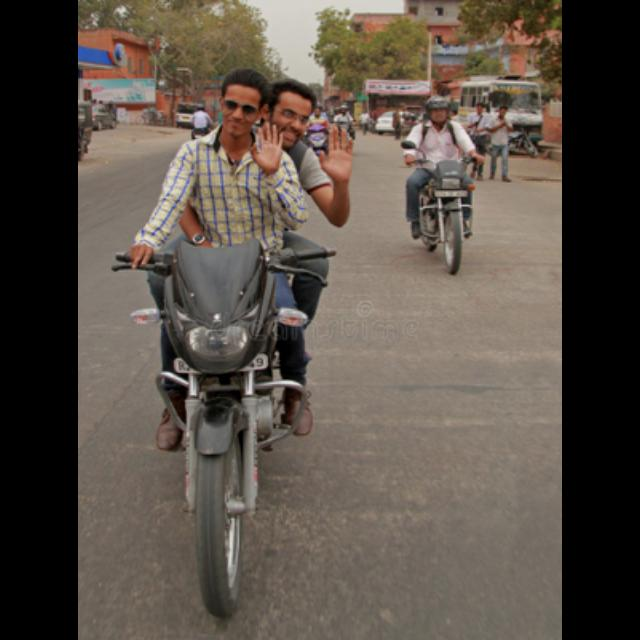With Helmet: (272, 76, 318, 150), (423, 93, 452, 123)
Without Helmet: (217, 64, 267, 140)
